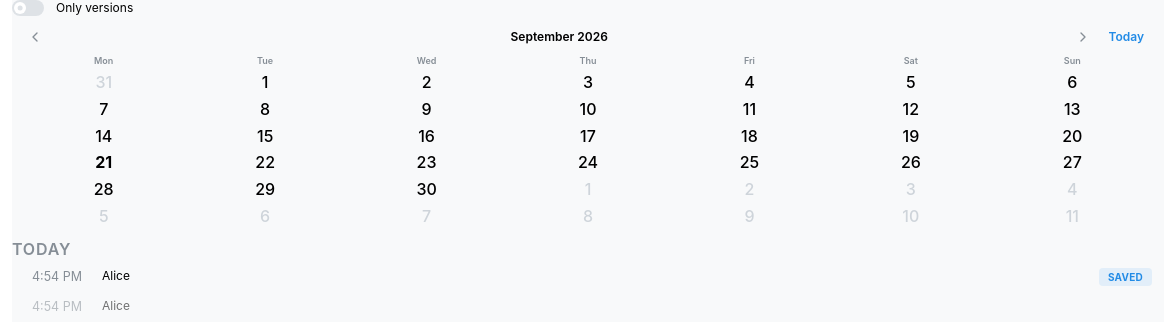
Test: HistoryNavPanel (#568 left nav) › the 'Only versions' switch filters out autosaves (non-vacuous)
Expected: the number of buttons with test id "revision-row" is 2, [12, 262, 1163, 292]; [32, 298, 130, 314]
Click the switch labelled "Only versions" at x=73, y=8, box [12, 0, 133, 16]
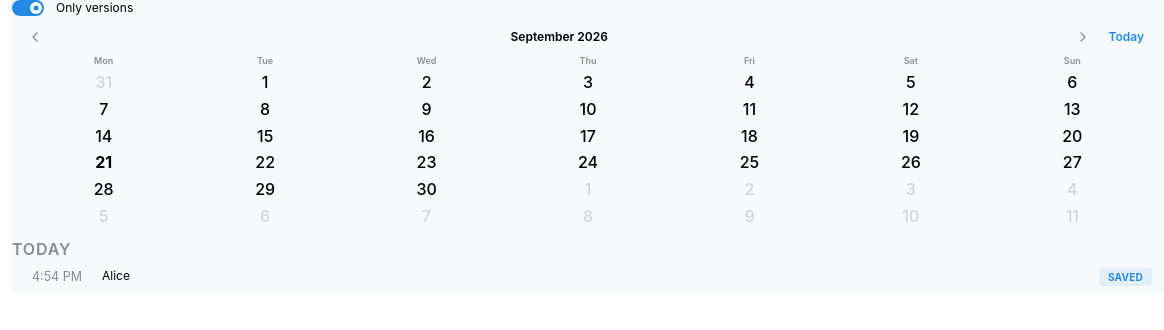
Expected: the text "Alice" is shown, [102, 267, 130, 286]
Now the number of buttons with test id "revision-row" is 1, box [12, 262, 1163, 292]
